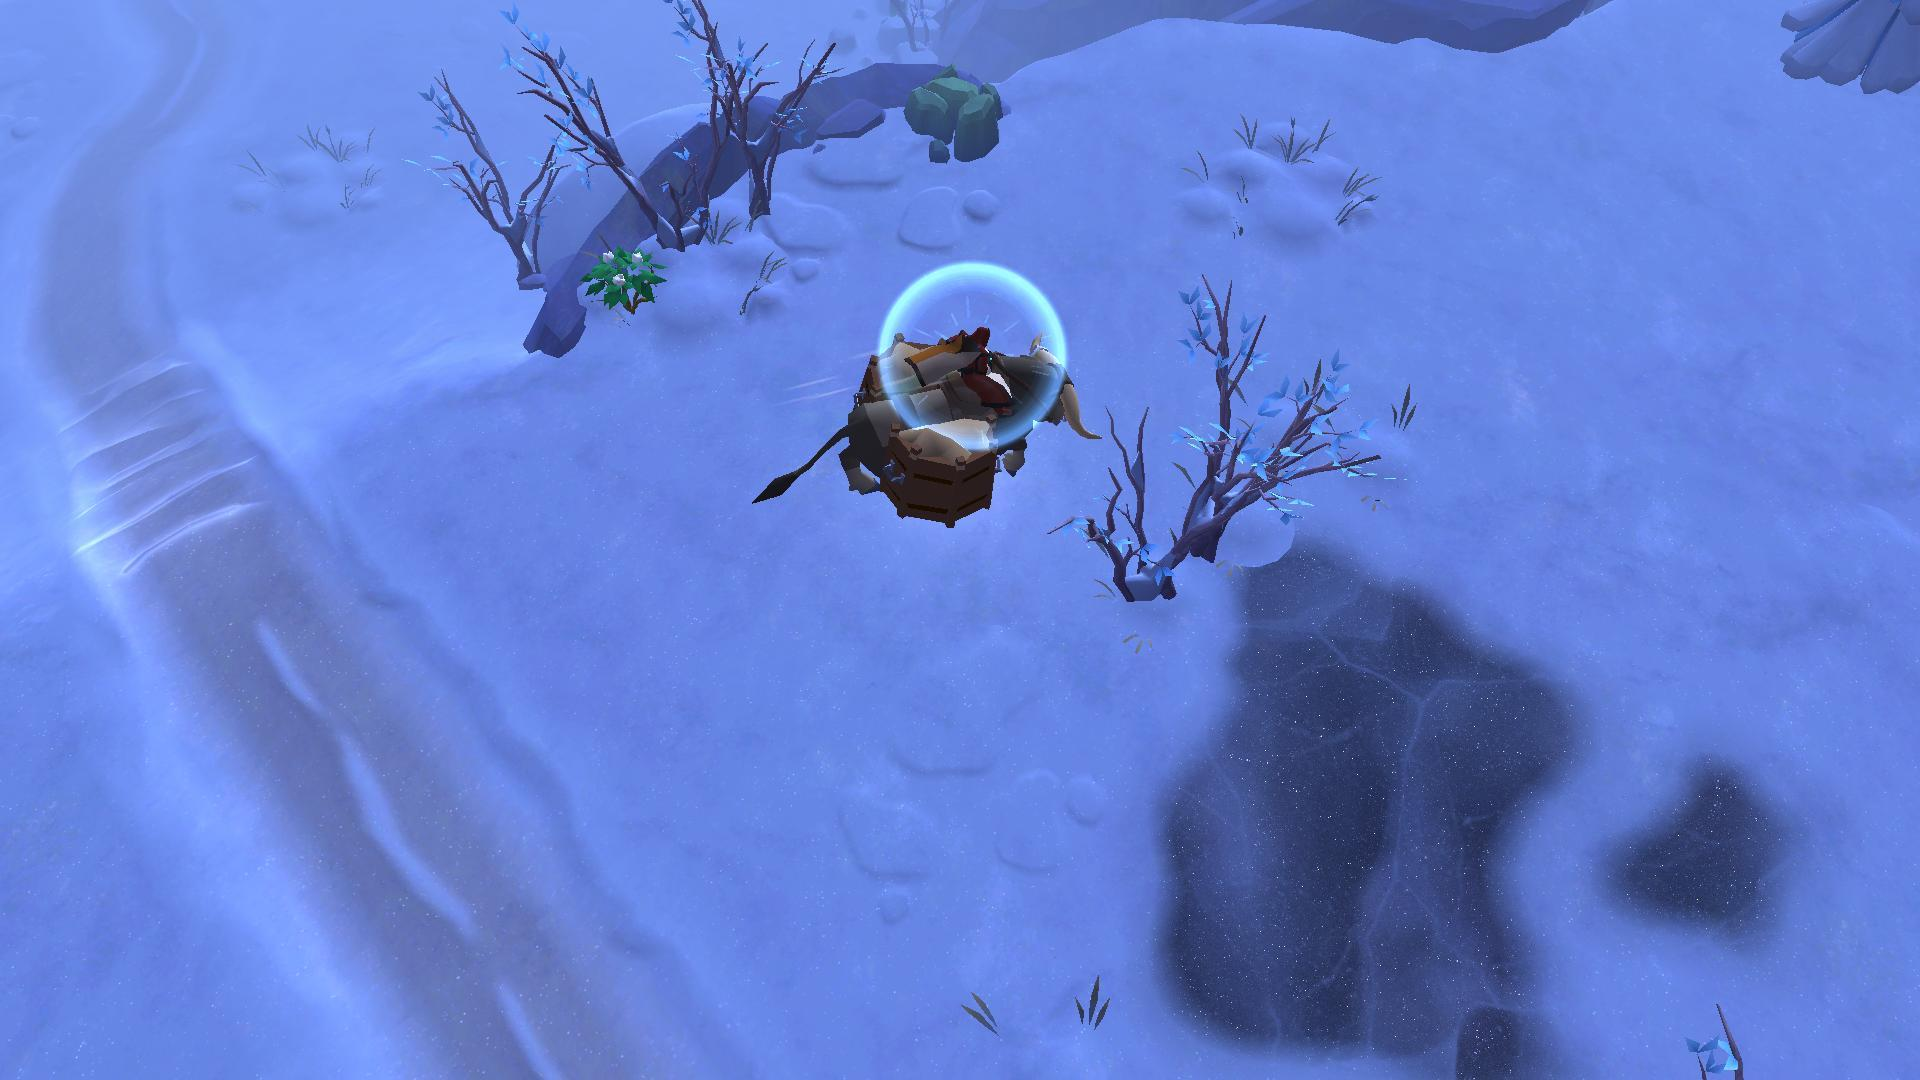fiber_t3: (580, 237, 675, 318)
rock_t3: (897, 67, 1011, 156)
